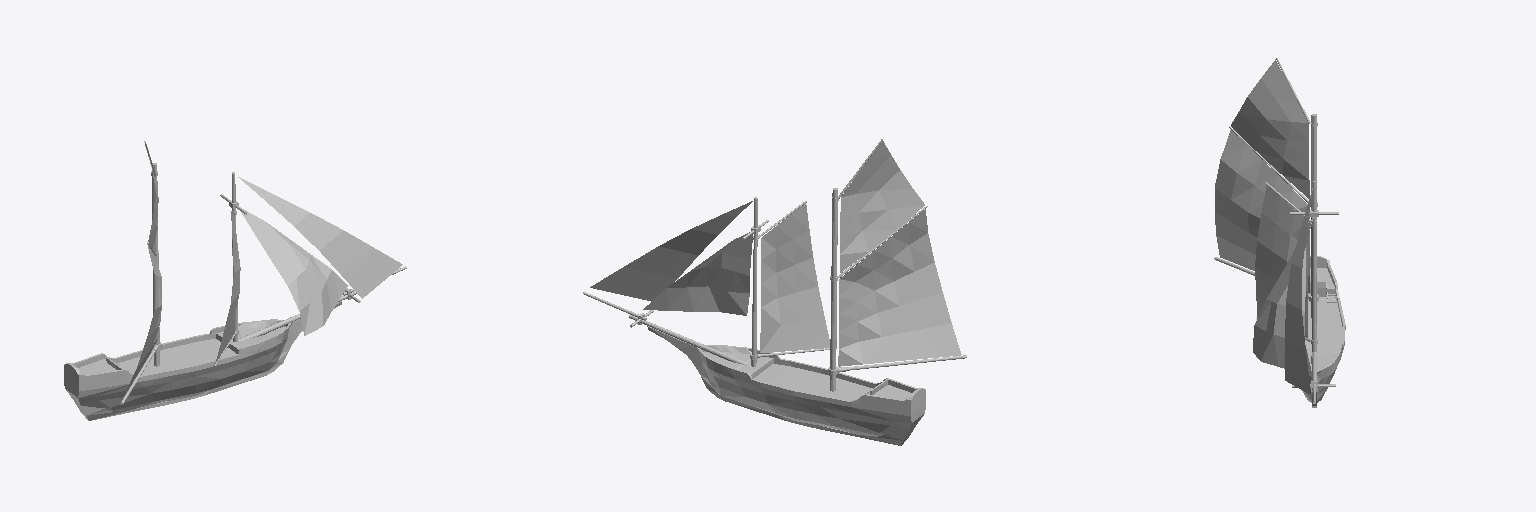
Rendered from BootjeRBValid.obj.
3 views of the same model, side by side, from view 1: azimuth 30°, elevation 25°; view 2: azimuth 150°, elevation 25°; view 3: azimuth 270°, elevation 25° (orthographic).
Parts seen in each view (by area): view 1: Hull_Plane, Sails_Plane.001; view 2: Sails_Plane.001, Hull_Plane, Booms_Plane.002; view 3: Sails_Plane.001, Hull_Plane, Booms_Plane.002.
Part boxes in pixels (x1,y1,x2,y2): Hull_Plane: (64,163,406,420); Sails_Plane.001: (124,157,402,395); Sails_Plane.001: (590,141,961,366); Hull_Plane: (583,188,925,445); Booms_Plane.002: (758,139,966,372); Sails_Plane.001: (1215,59,1313,394); Hull_Plane: (1290,114,1345,407); Booms_Plane.002: (1214,58,1310,341).
Size of the model in its own units: 19.65 by 16.04 by 6.66.